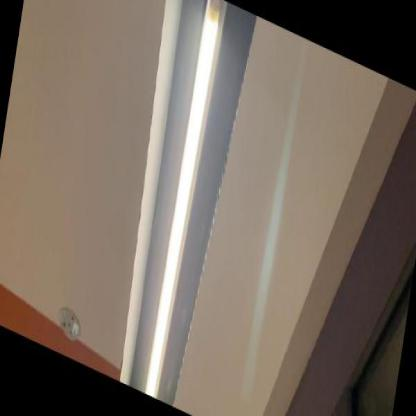light_on: (128, 0, 244, 415)
